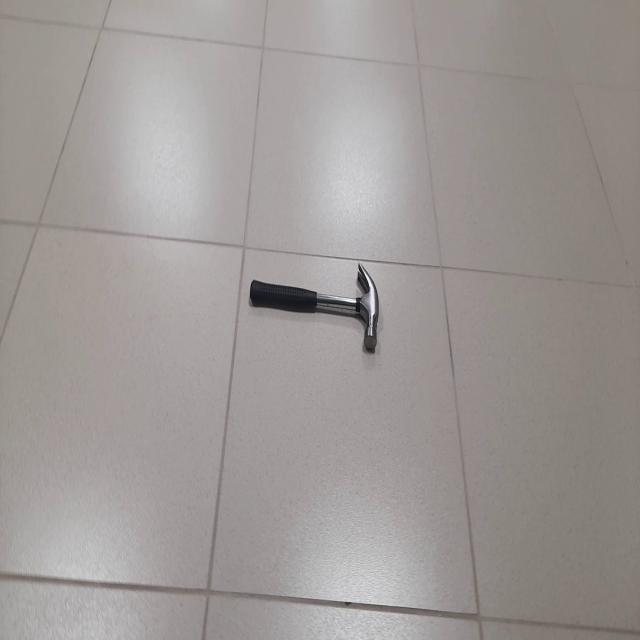hammer: (250, 260, 380, 350)
